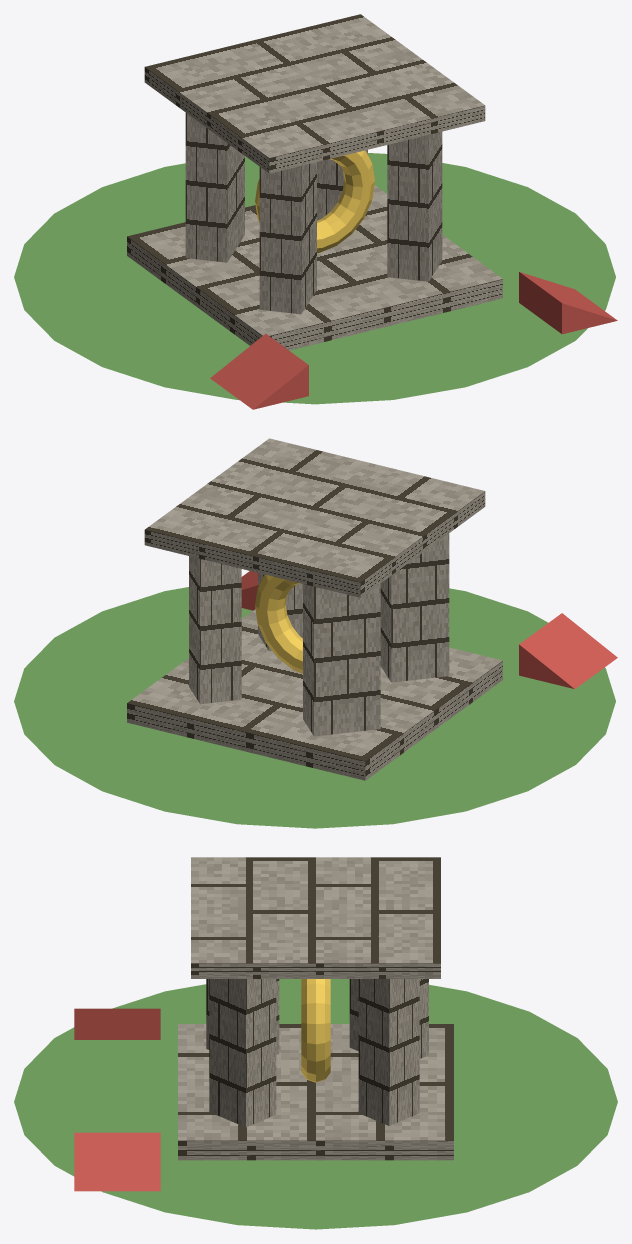
File: shrine.glb
3 views of the same model, one above another, from view 1: azimuth 30°, elevation 25°; view 2: azimuth 150°, elevation 25°; view 3: azimuth 270°, elevation 25° (orthographic).
Size of the model in its own units: 14 by 4.9 by 14.
Materials: 4 (1 with a texture image).
